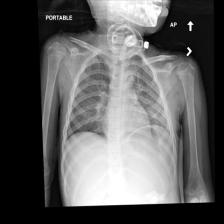normal: (62, 48, 177, 181)
